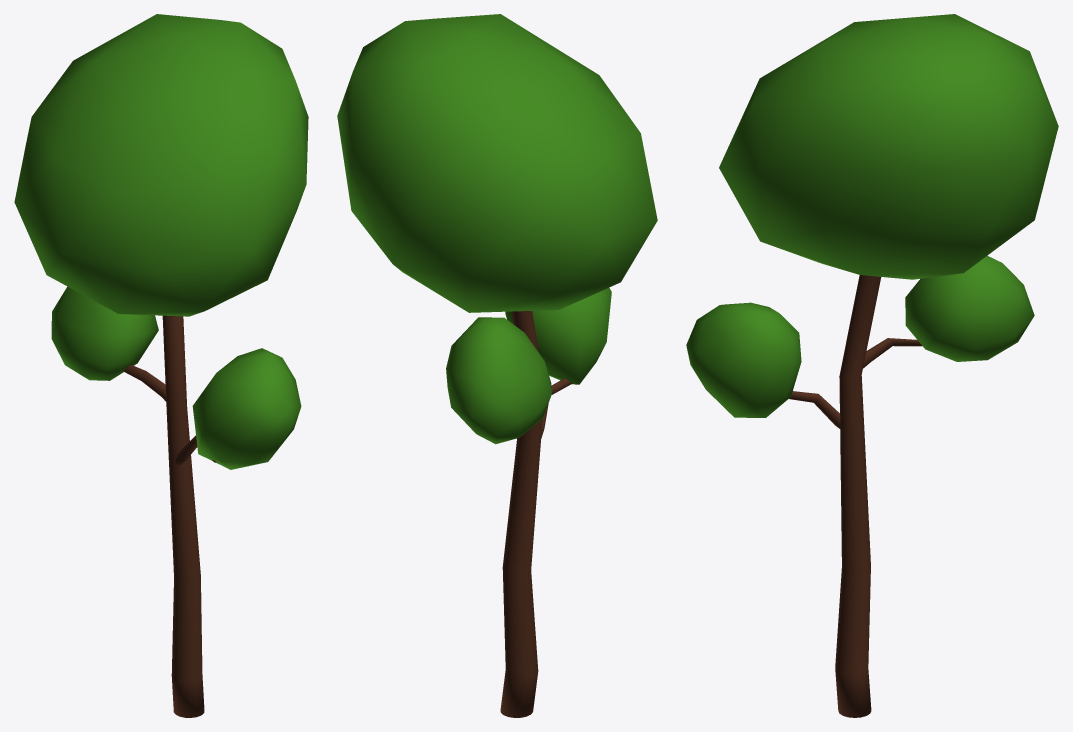
The model's file is drzewo3.fbx.
3 renders of one model, left to right at view 1: azimuth 30°, elevation 25°; view 2: azimuth 150°, elevation 25°; view 3: azimuth 270°, elevation 25°, orthographic. The views are drawn at different scales.
Parts seen in each view (by area): view 1: drzewo3; view 2: drzewo3; view 3: drzewo3.
Boxes of the visible parts, left/top/right/bottom form: drzewo3: left=14, top=14, right=308, bottom=717; drzewo3: left=337, top=14, right=657, bottom=717; drzewo3: left=686, top=14, right=1058, bottom=717.
Bounding box in the file's own units: 157 × 390 × 189.
